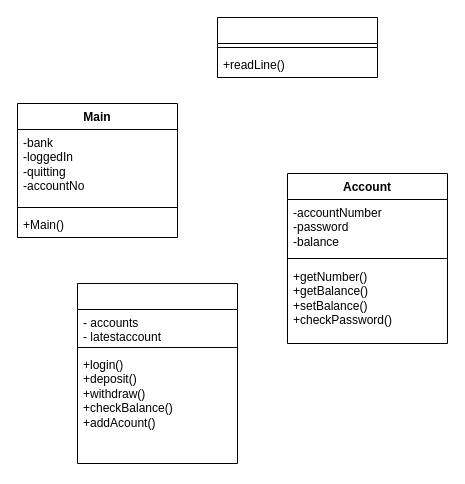
Some shapes in this 465 by 484 pixel diagram are drawn without their labels. Here are the shapes that lost their labels. From the top down, the box of each, then its label:
(216, 16, 378, 78): Console
(76, 282, 238, 464): Bank
